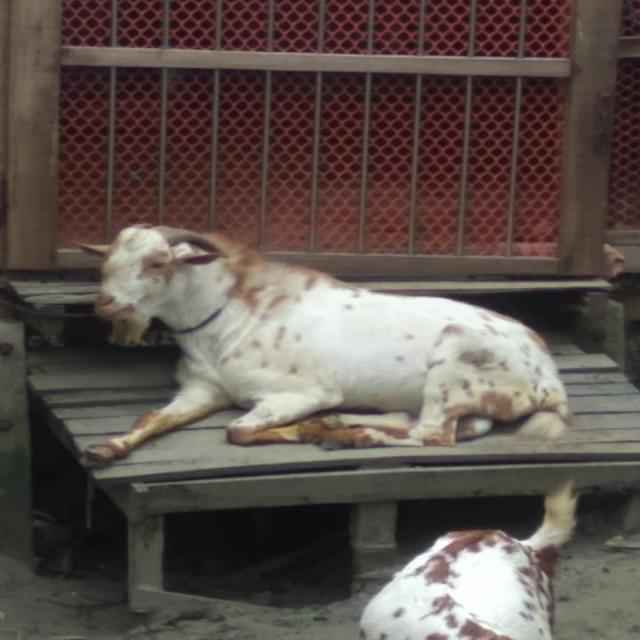Goat: (71, 221, 576, 469), (358, 478, 581, 639)
